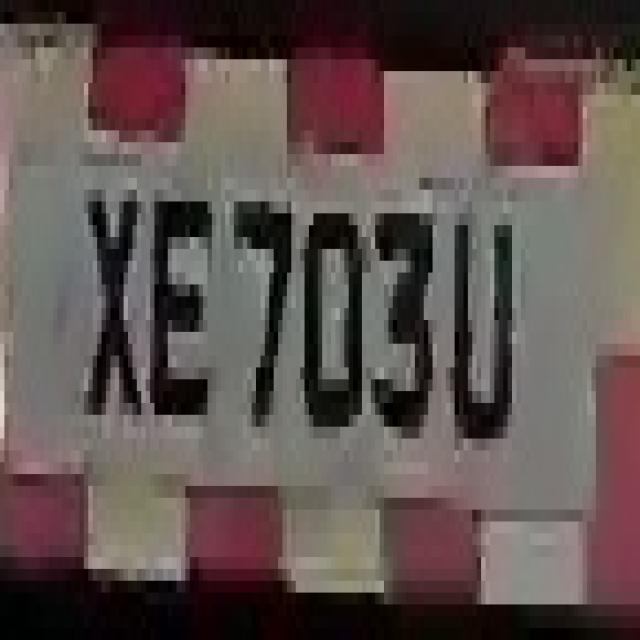0: (296, 166, 366, 474)
3: (362, 178, 437, 486)
7: (221, 119, 300, 474)
E: (146, 154, 216, 450)
U: (441, 166, 521, 486)
X: (88, 119, 146, 462)
